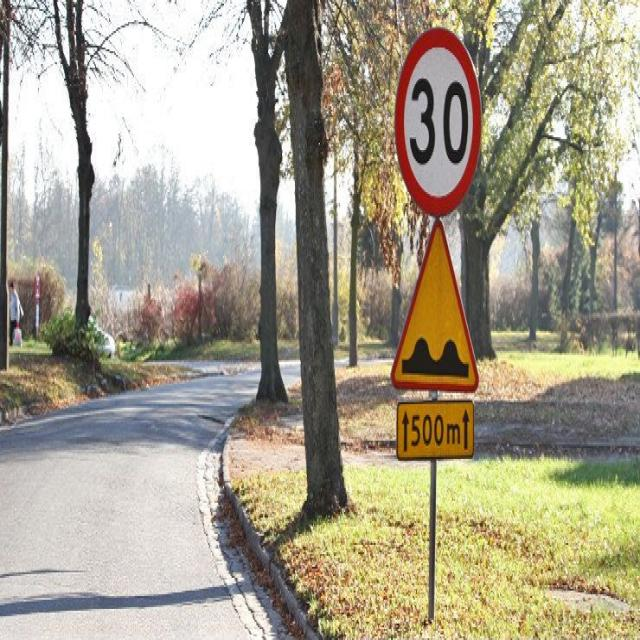Speed Limit -30-: (410, 77, 468, 165)
